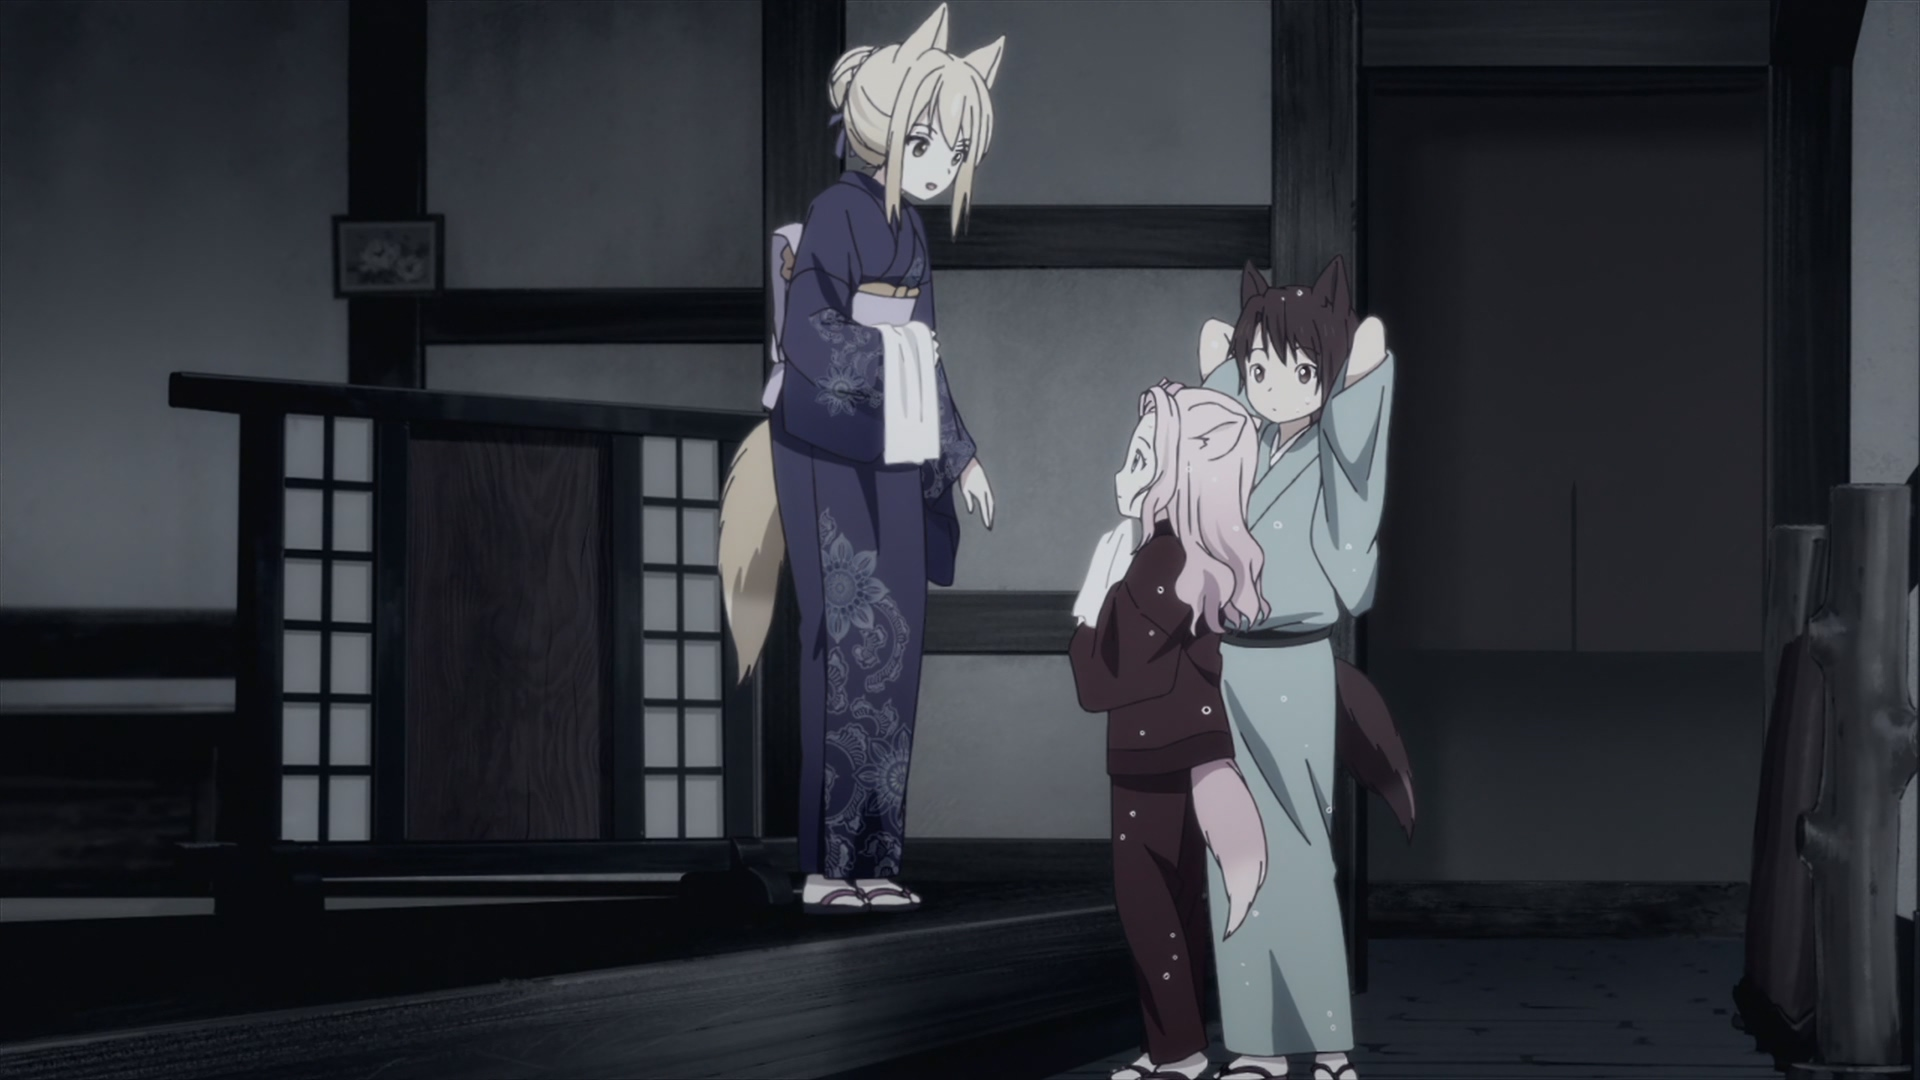枣: (1197, 260, 1396, 1080)
桐: (717, 1, 1007, 915)
莲: (1065, 378, 1273, 1080)
